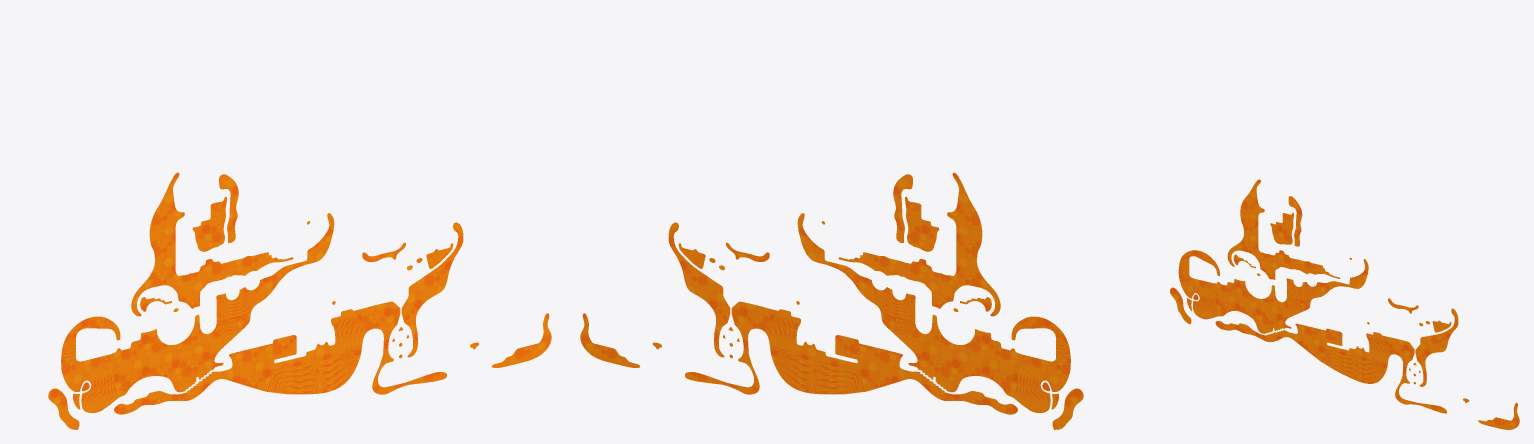
Rendered from flower02.glb.
3 views of the same model, side by side, from view 1: azimuth 30°, elevation 25°; view 2: azimuth 150°, elevation 25°; view 3: azimuth 330°, elevation 25° (orthographic). The views are drawn at different scales.
Parts seen in each view (by area): view 1: flower02; view 2: flower02; view 3: flower02.
Boxes of the visible parts, x1,y1,x2,y2 form: flower02: (48, 172, 551, 429); flower02: (580, 172, 1083, 429); flower02: (1170, 179, 1519, 429).
Size of the model in its own units: 3546 by 2979 by 0.0315.
Materials: 1 (1 with a texture image).
